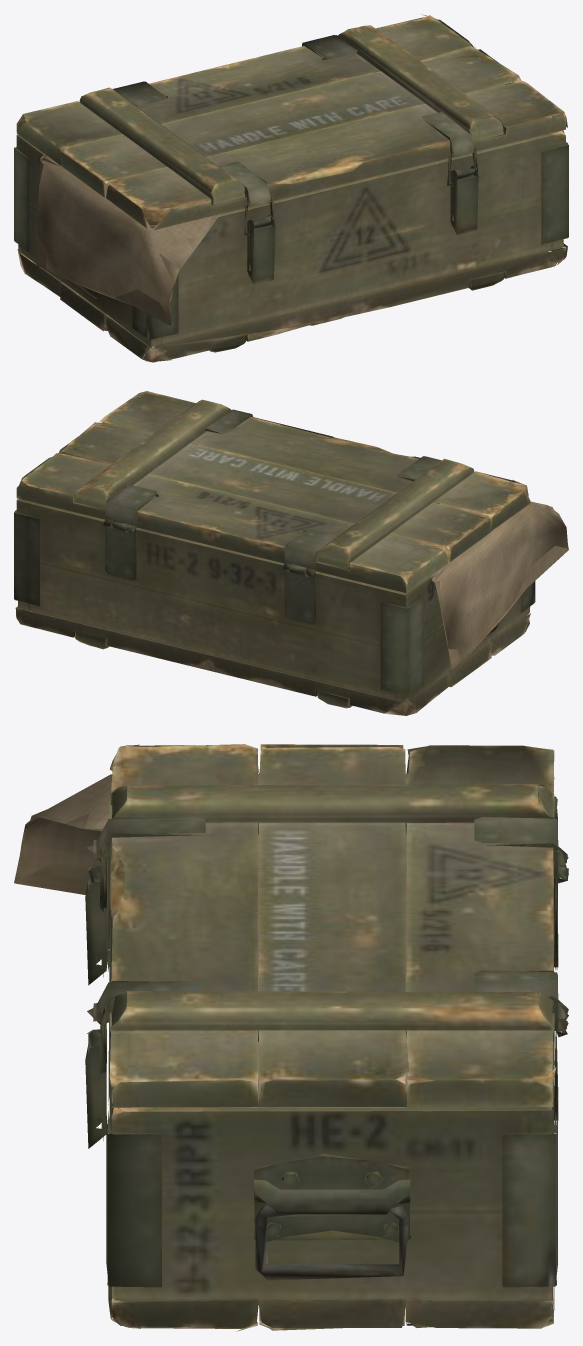
Rendered from old_military_crate_1.glb.
3 views of the same model, one above another, from view 1: azimuth 30°, elevation 25°; view 2: azimuth 150°, elevation 25°; view 3: azimuth 270°, elevation 25° (orthographic). The views are drawn at different scales.
Parts seen in each view (by area): view 1: old_military_crate_1; view 2: old_military_crate_1; view 3: old_military_crate_1.
Part boxes in pixels (bbox=[...]): old_military_crate_1: bbox=[14, 14, 568, 362]; old_military_crate_1: bbox=[14, 391, 568, 715]; old_military_crate_1: bbox=[14, 744, 568, 1331].
Size of the model in its own units: 0.8138 by 0.3002 by 0.5383.
1 material, 1 textured.
